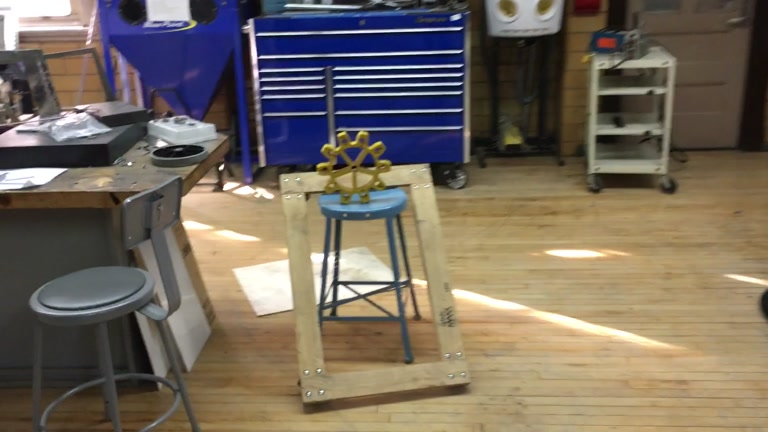gear: (316, 129, 393, 206)
